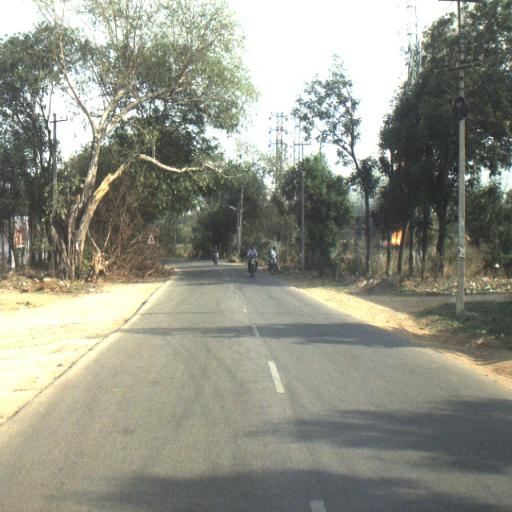street_light_0: (229, 205, 239, 213)
